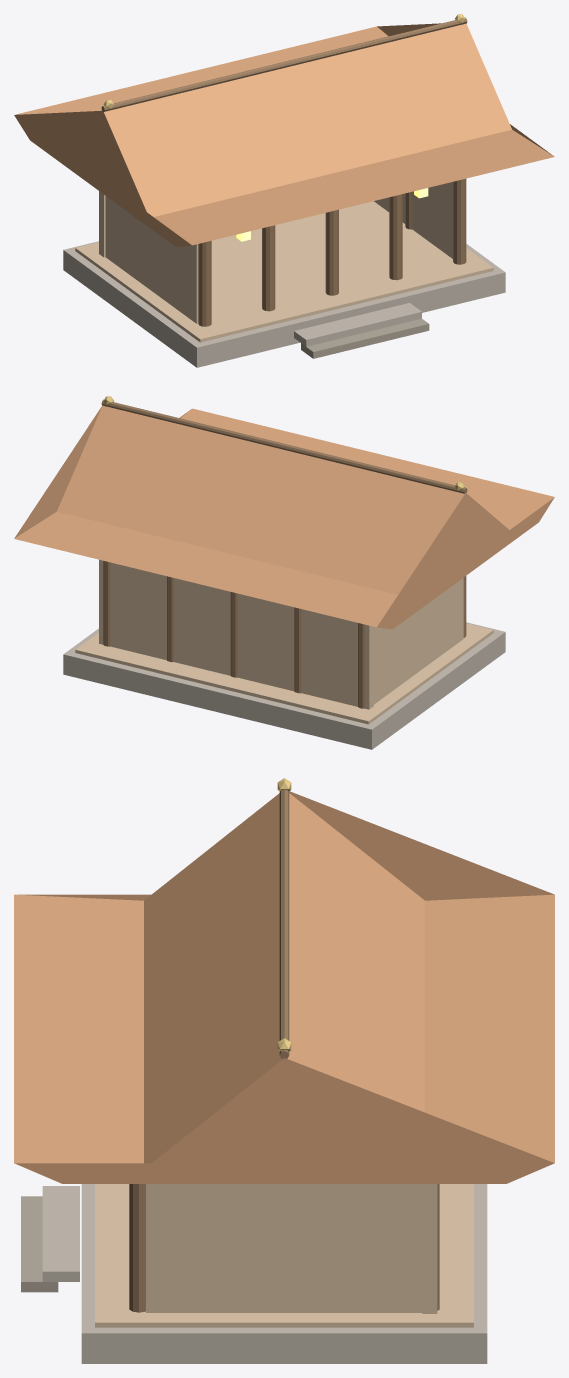
The model's file is townhall.glb.
3 views of the same model, one above another, from view 1: azimuth 30°, elevation 25°; view 2: azimuth 150°, elevation 25°; view 3: azimuth 270°, elevation 25° (orthographic). The views are drawn at different scales.
Visible parts, largest first — view 1: roof, floor, base, wall_side_-1, wall_side_1, ridge, step_a, step_b, col_f_1, col_f_0, col_f_4, col_f_2 (+2 smaller); view 2: roof, wall_back, base, floor, wall_side_-1, ridge, col_b_1, col_b_2, col_b_4, col_b_0, col_b_3; view 3: roof, wall_side_1, base, floor, step_a, ridge, step_b, col_f_4, wall_back.
Boxes of the visible parts, x1,y1,x2,y2 form: roof: [14, 23, 554, 247]; floor: [75, 201, 493, 342]; base: [63, 241, 505, 367]; wall_side_-1: [105, 196, 198, 323]; wall_side_1: [374, 182, 452, 258]; ridge: [101, 17, 467, 111]; step_a: [294, 303, 421, 346]; step_b: [301, 318, 429, 358]; col_f_1: [262, 225, 275, 311]; col_f_0: [198, 240, 211, 326]; col_f_4: [453, 178, 466, 264]; col_f_2: [325, 209, 338, 295]; roof: [14, 405, 554, 629]; wall_back: [99, 559, 373, 709]; base: [63, 622, 505, 749]; floor: [75, 623, 493, 724]; wall_side_-1: [374, 578, 463, 704]; ridge: [101, 399, 467, 493]; col_b_1: [294, 607, 301, 693]; col_b_2: [230, 592, 237, 677]; col_b_4: [103, 561, 110, 646]; col_b_0: [358, 623, 364, 708]; col_b_3: [167, 576, 173, 662]; roof: [14, 791, 554, 1183]; wall_side_1: [146, 1184, 422, 1312]; base: [81, 1184, 487, 1363]; floor: [95, 1184, 473, 1327]; step_a: [42, 1186, 79, 1281]; ridge: [279, 789, 289, 1059]; step_b: [21, 1196, 58, 1292]; col_f_4: [129, 1184, 145, 1312]; wall_back: [422, 1184, 437, 1313].
Size of the model in its own units: 9.33 by 5.5 by 7.94.
